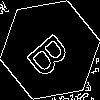B: (25, 25, 79, 81)
